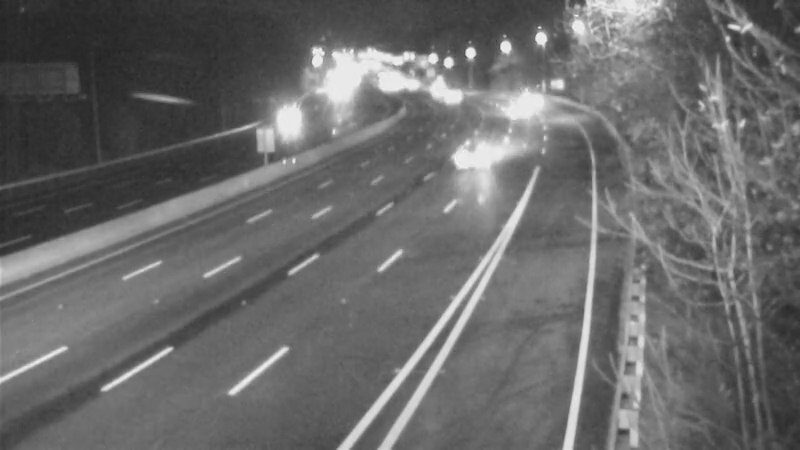vehicle: (434, 117, 514, 197), (432, 75, 482, 125), (493, 87, 543, 137), (260, 98, 310, 148)
